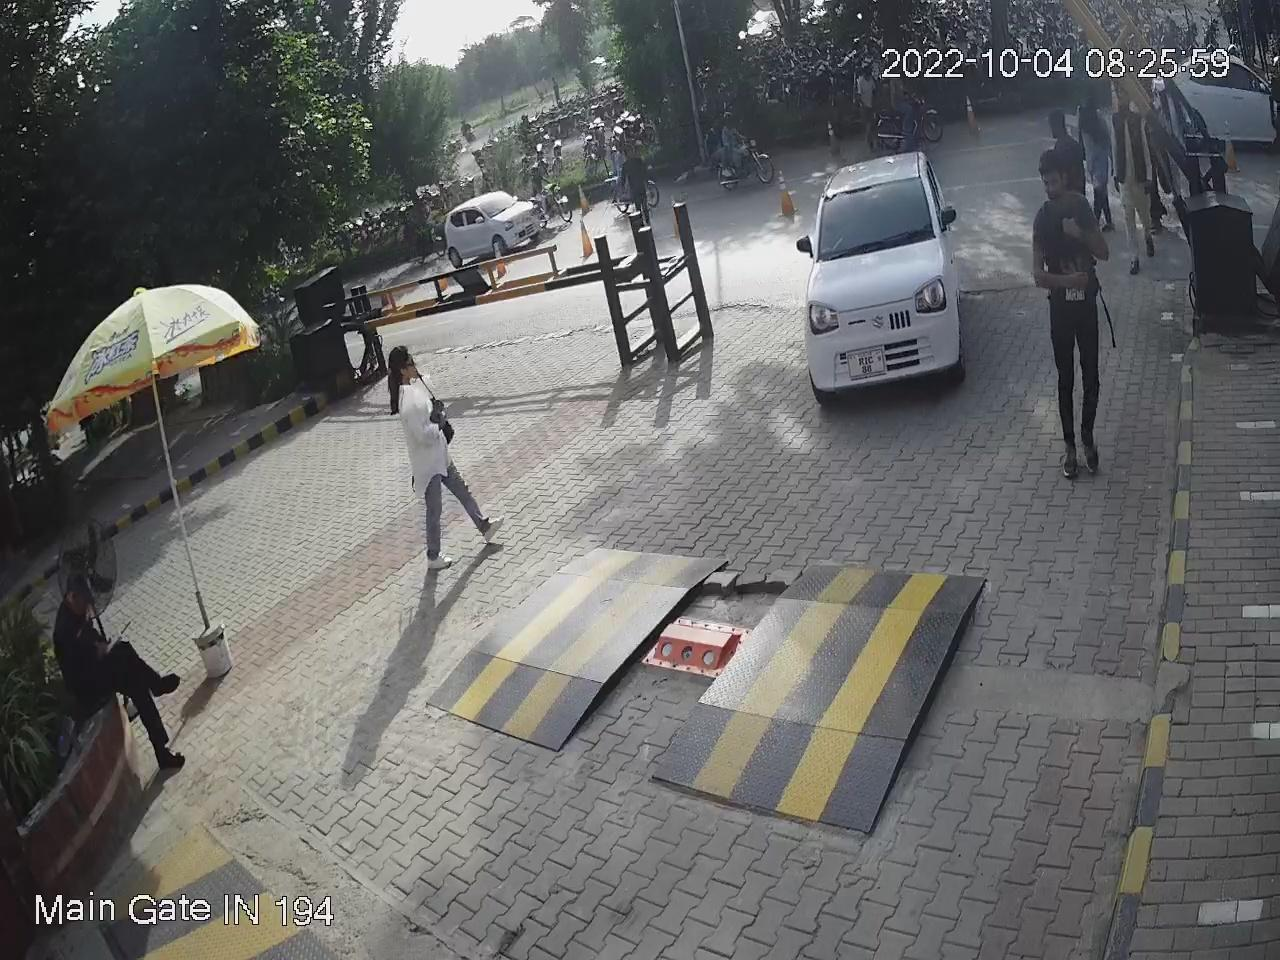windshield: (817, 177, 942, 267)
